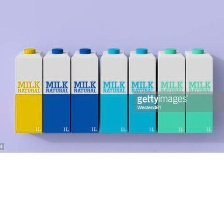carton: (185, 45, 215, 136), (13, 45, 43, 135), (70, 45, 100, 135), (42, 44, 70, 136), (156, 47, 185, 135), (99, 46, 128, 134), (128, 47, 156, 135)
